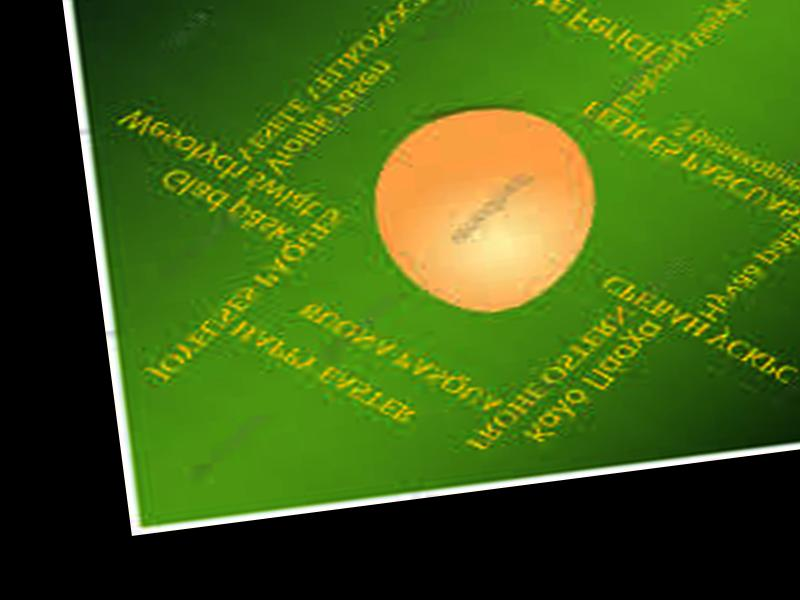Eggs: (366, 97, 608, 319)
